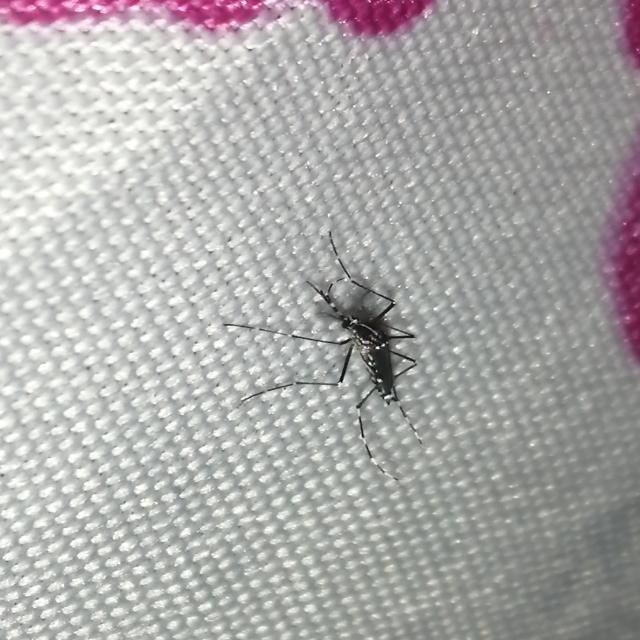albopictus: (216, 213, 433, 482)
